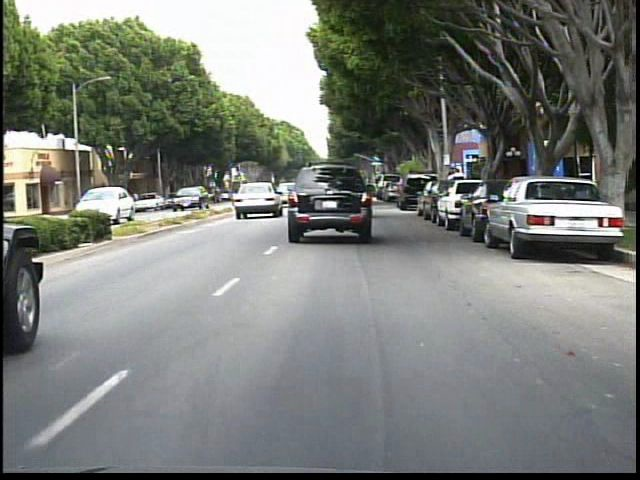person: (452, 168, 468, 205), (443, 167, 457, 204)
